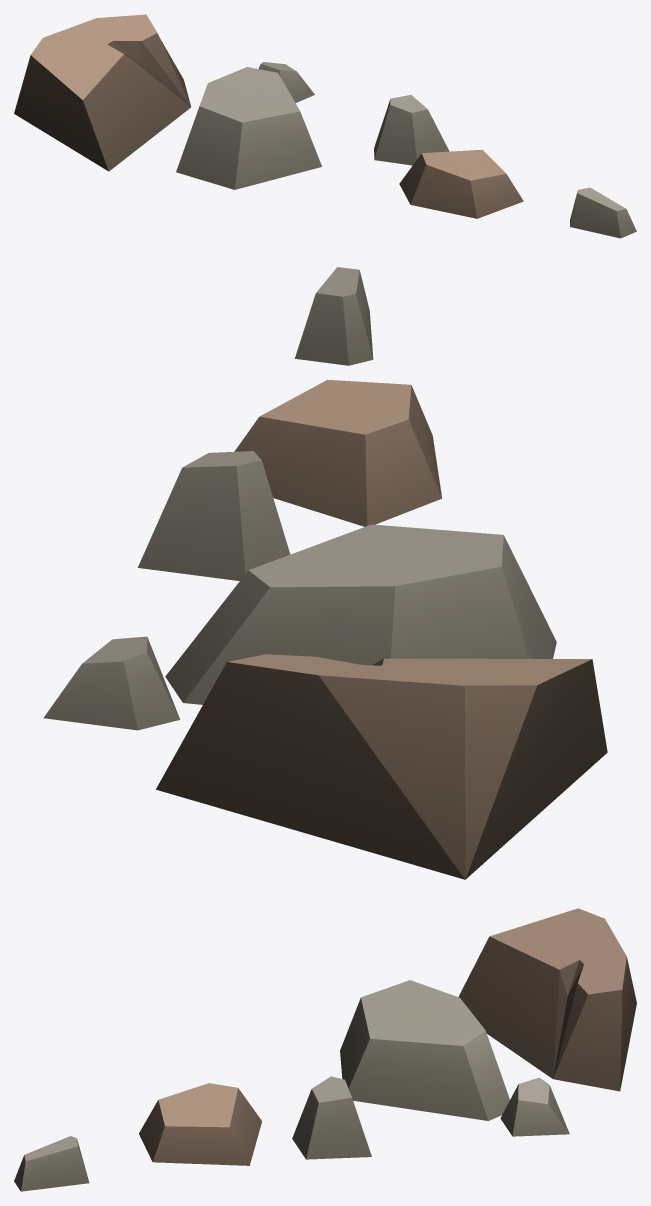
Rendered from Rock_Cluster_5A.fbx.
The picture shows the model from 3 angles, top to bottom: view 1: azimuth 30°, elevation 25°; view 2: azimuth 150°, elevation 25°; view 3: azimuth 270°, elevation 25°; orthographic projection. The views are drawn at different scales.
Visible parts, largest first — view 1: Rock_Cluster_5A; view 2: Rock_Cluster_5A; view 3: Rock_Cluster_5A.
Part boxes in pixels (left/top/right/bottom): Rock_Cluster_5A: left=14, top=14, right=636, bottom=238; Rock_Cluster_5A: left=43, top=267, right=607, bottom=879; Rock_Cluster_5A: left=14, top=908, right=636, bottom=1191.
Bounding box in the file's own units: 1.24 × 0.2759 × 1.68.
